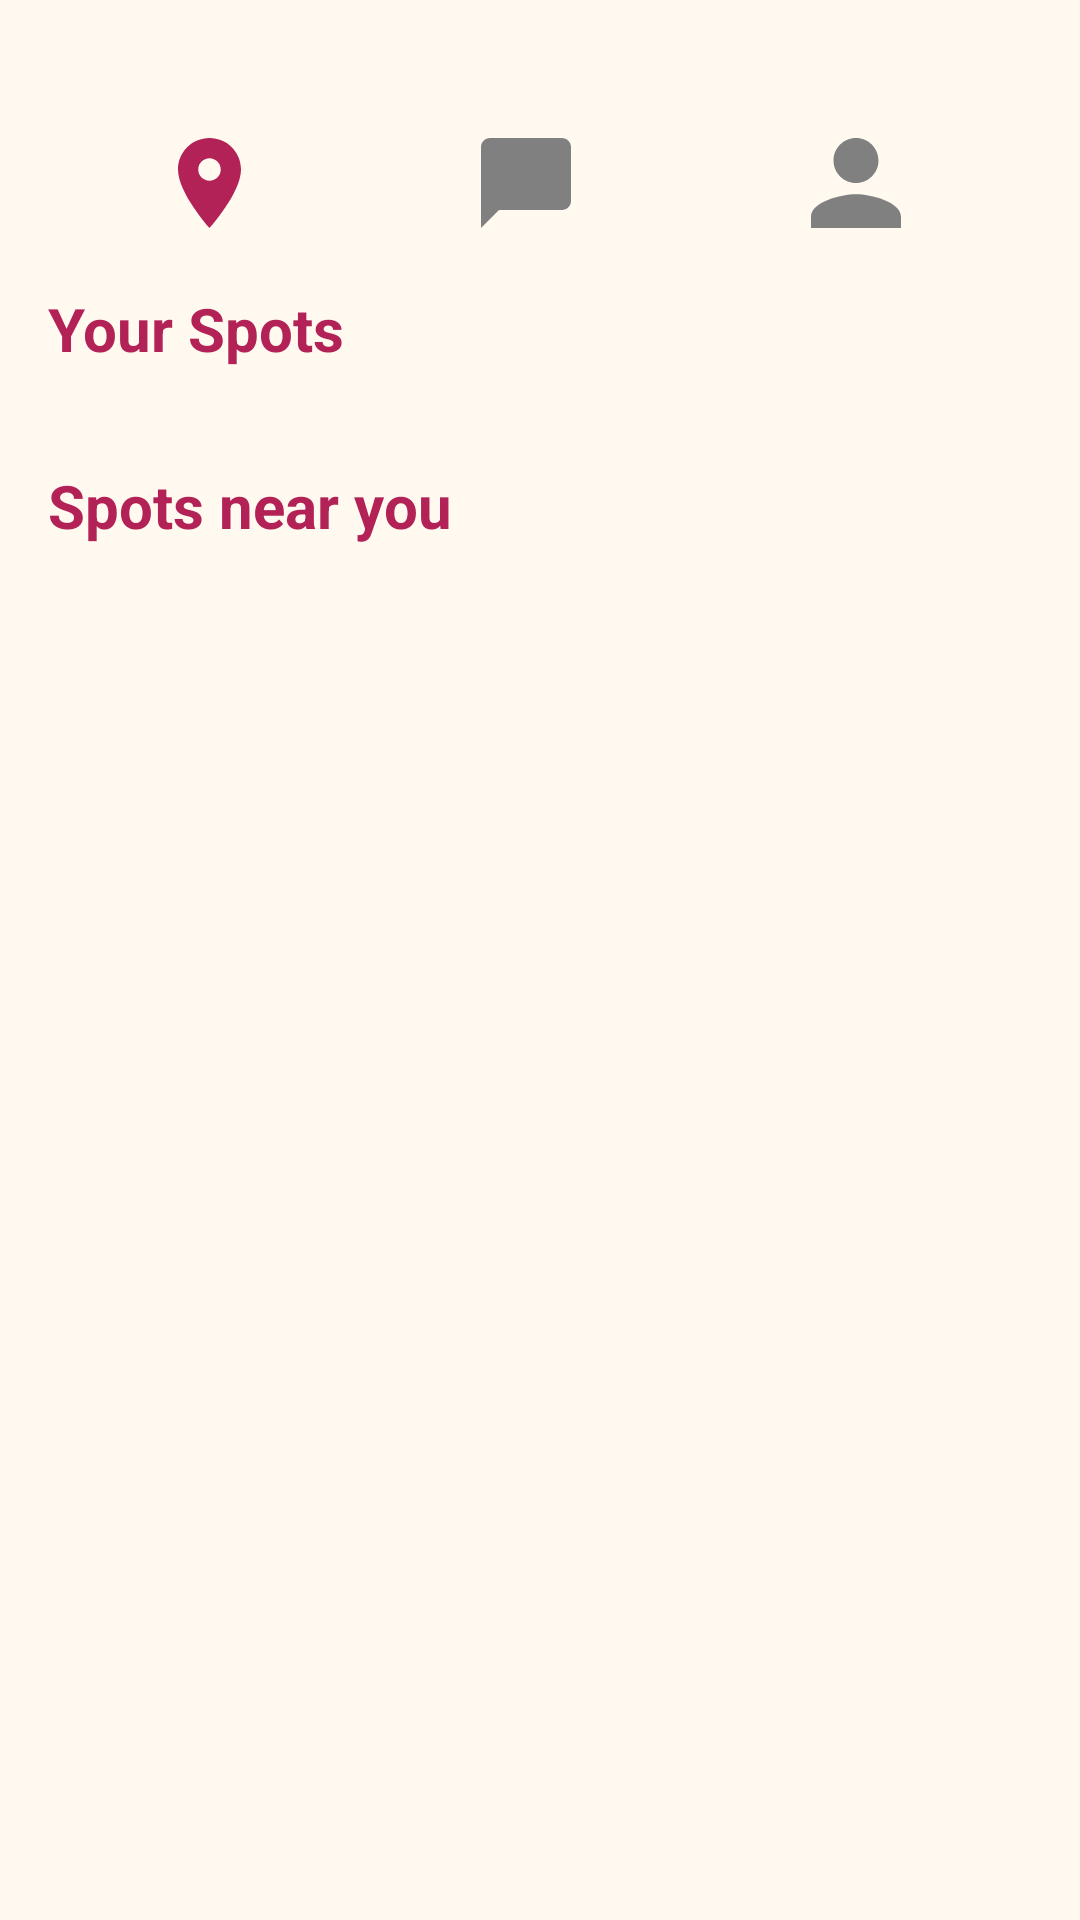

Where to tap for icons on this 1080×1920 app screen, as [x,y]:
chat: [526,183]
location: [209,183]
profile: [856,183]
